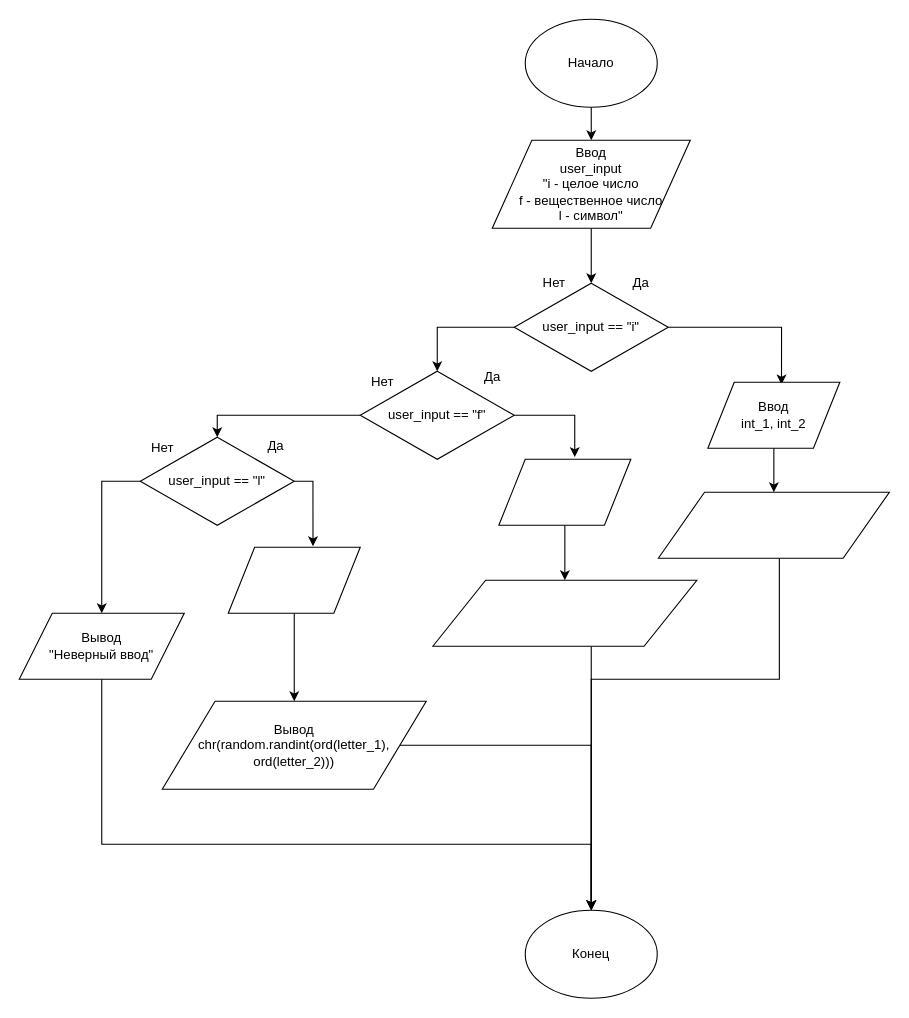
Image size: 909x1018. Some labels were removed from this diagram. The shapes that lost their labels are listed below. From the top down, each one's centre as x and y in pixels, then its label:
At (x=564, y=491): "Ввод float_1, float_2".
At (x=773, y=524): "Вывод random.randint(int_1, int_2)".
At (x=293, y=579): "Ввод letter_1, letter_2".
At (x=564, y=612): "Вывод random.uniform(float_1, float_2)".
